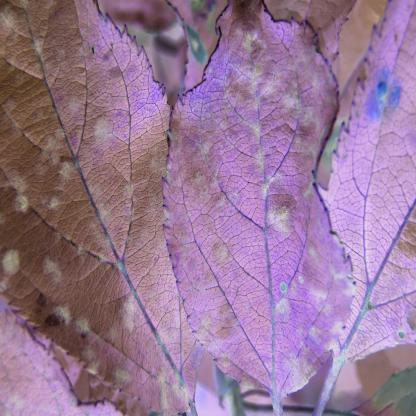apple scab leaf: (1, 1, 196, 415), (161, 2, 358, 400)
